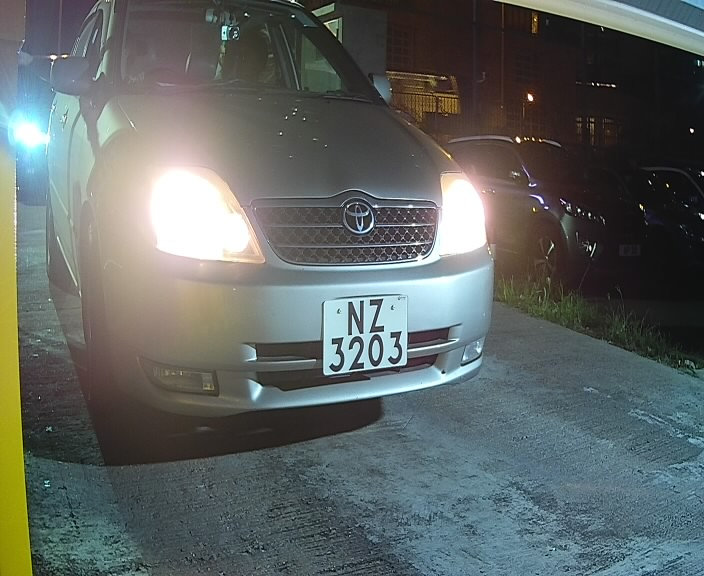License Plate: (318, 287, 417, 385)
